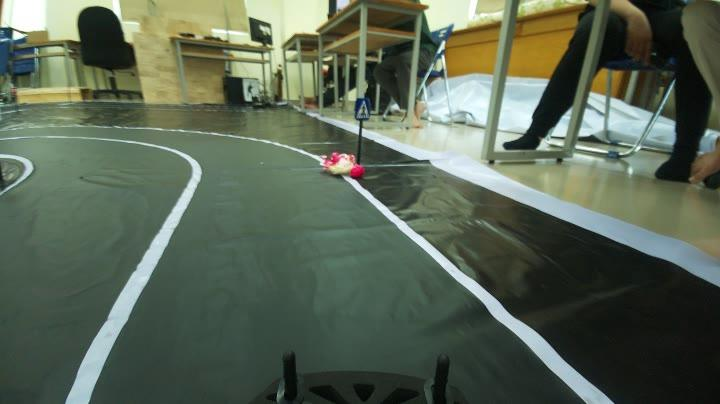crosswalk: (350, 91, 376, 125)
